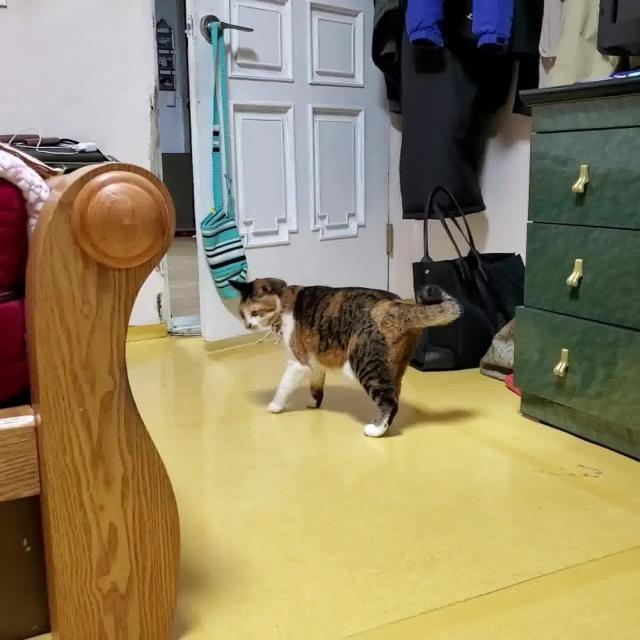cat: (221, 268, 464, 442)
